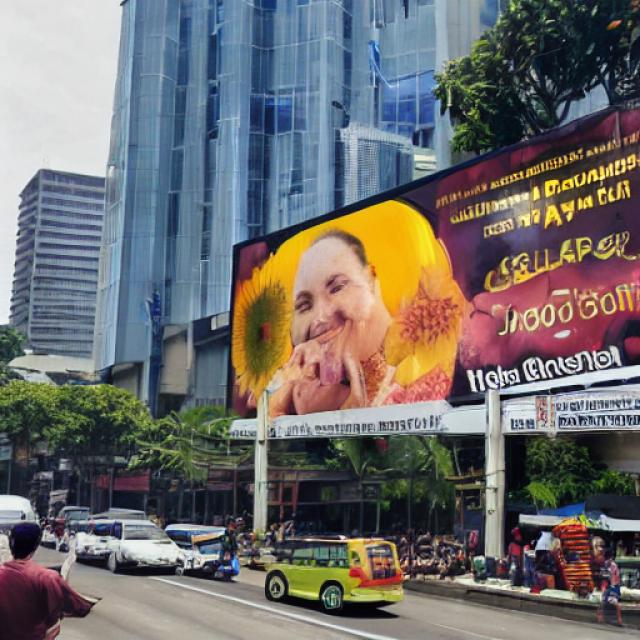Billboard: (221, 105, 640, 443)
